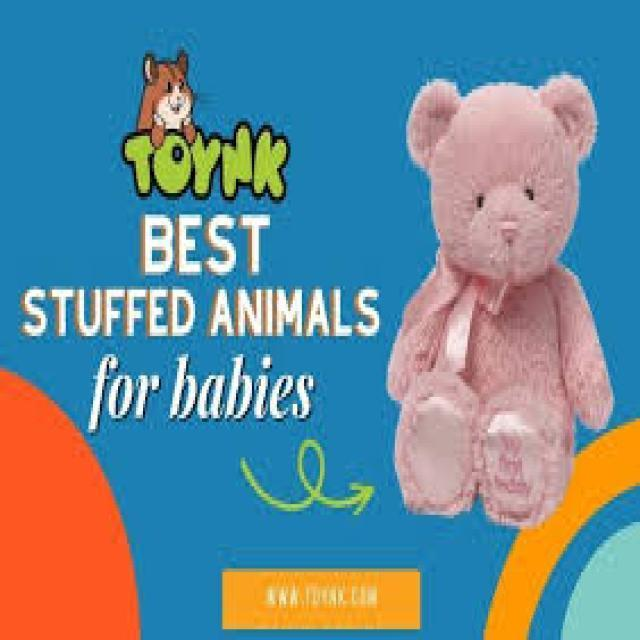soft-toy: (390, 77, 614, 528)
